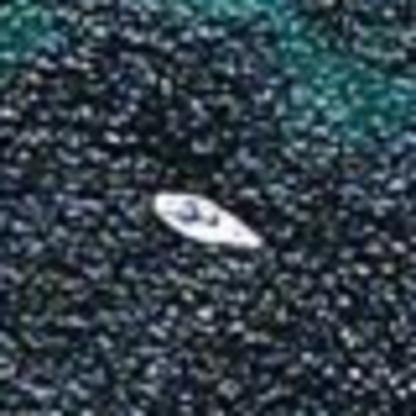ship: (139, 183, 269, 265)
